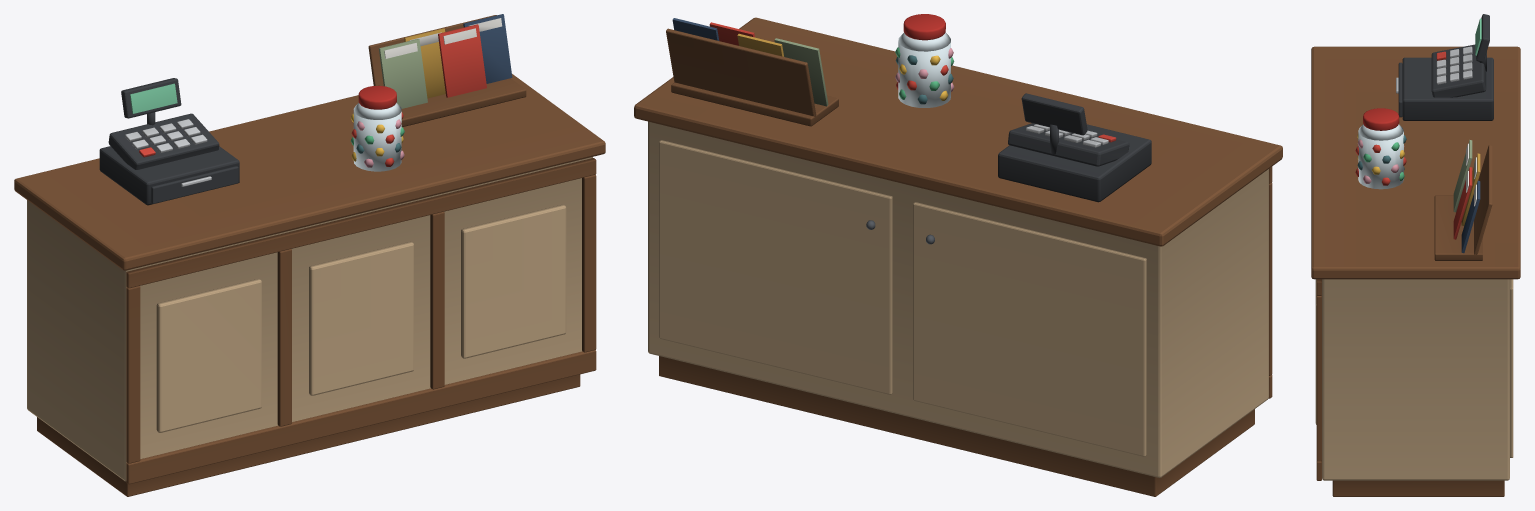
File: shopCounter.glb
The picture shows the model from 3 angles, left to right: view 1: azimuth 30°, elevation 25°; view 2: azimuth 150°, elevation 25°; view 3: azimuth 270°, elevation 25°; orthographic projection. The views are drawn at different scales.
Visible parts, largest first — view 1: counter, cash_drawer; view 2: counter; view 3: counter, cash_drawer.
Boxes of the visible parts, bbox=[...] form: counter: bbox=[14, 14, 605, 496]; cash_drawer: bbox=[151, 166, 238, 203]; counter: bbox=[634, 14, 1282, 496]; counter: bbox=[1311, 14, 1520, 496]; cash_drawer: bbox=[1396, 62, 1402, 117].
Size of the model in its own units: 1.96 by 1.28 by 0.78.
